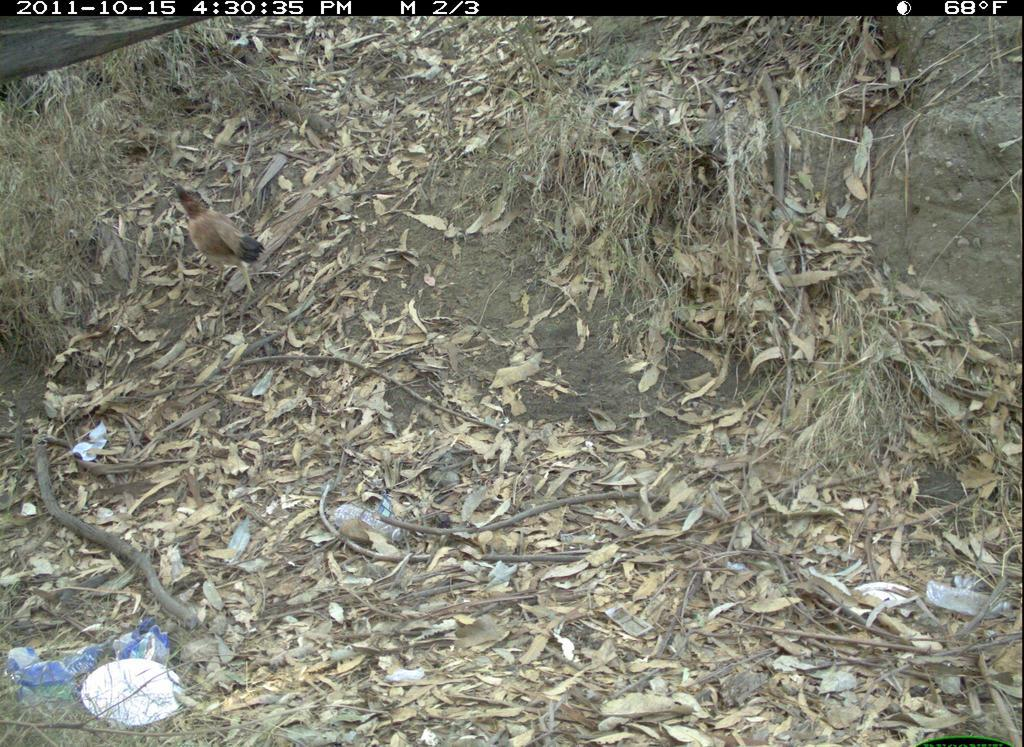bird: (166, 175, 265, 306)
